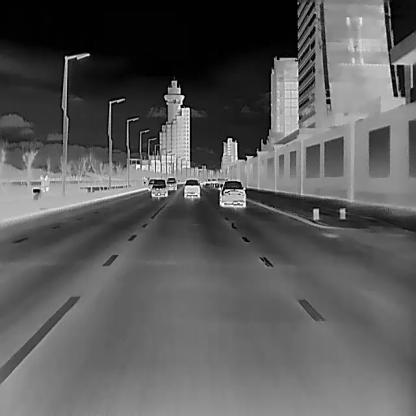car: (218, 180, 245, 207), (183, 178, 200, 199), (151, 178, 166, 196), (166, 175, 176, 190), (146, 178, 156, 190)
